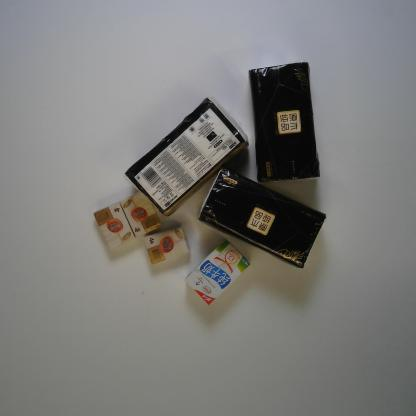Milk: (185, 239, 251, 306)
Tissue: (124, 97, 249, 218), (197, 168, 326, 269), (249, 62, 320, 182), (120, 188, 162, 237), (93, 202, 135, 250), (144, 224, 189, 264)
